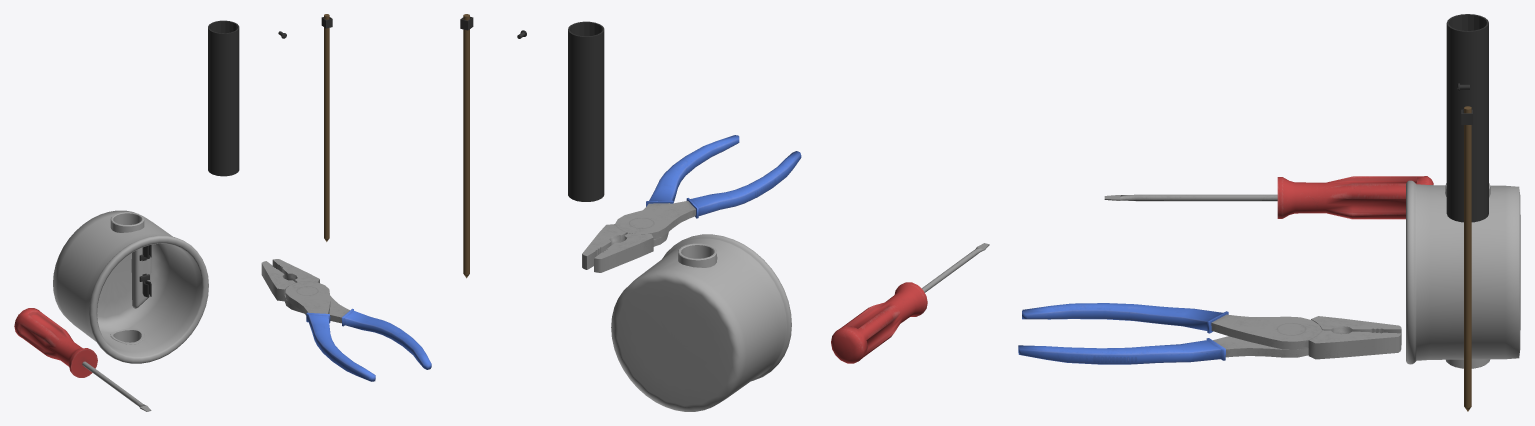
Rendered from OBJS_MEDIDOR.fbx.
The picture shows the model from 3 angles, left to right: view 1: azimuth 30°, elevation 25°; view 2: azimuth 150°, elevation 25°; view 3: azimuth 270°, elevation 25°; orthographic projection. The views are drawn at different scales.
Parts seen in each view (by area): view 1: GEO_MedidorINT, GEO_Tubo, GEO_Pinzas, GEO_Destornillador, GEO_Pinzas1, GEO_BarillaTierra, GEO_Medidor_PartesINT; view 2: GEO_MedidorINT, GEO_Tubo, GEO_Pinzas, GEO_Destornillador, GEO_Pinzas1, GEO_BarillaTierra; view 3: GEO_MedidorINT, GEO_Pinzas, GEO_Tubo, GEO_Destornillador, GEO_Pinzas1, GEO_BarillaTierra.
Boxes of the visible parts, <box> form: GEO_MedidorINT: <box>53,210,208,363</box>; GEO_Tubo: <box>208,20,239,176</box>; GEO_Pinzas: <box>272,259,375,381</box>; GEO_Destornillador: <box>14,308,151,411</box>; GEO_Pinzas1: <box>261,261,431,369</box>; GEO_BarillaTierra: <box>321,14,332,241</box>; GEO_Medidor_PartesINT: <box>139,245,151,297</box>; GEO_MedidorINT: <box>611,234,791,411</box>; GEO_Tubo: <box>568,21,604,201</box>; GEO_Pinzas: <box>582,151,801,269</box>; GEO_Destornillador: <box>831,243,989,363</box>; GEO_Pinzas1: <box>594,135,739,272</box>; GEO_BarillaTierra: <box>460,14,473,278</box>; GEO_MedidorINT: <box>1406,180,1520,368</box>; GEO_Pinzas: <box>1022,303,1401,359</box>; GEO_Tubo: <box>1446,14,1488,222</box>; GEO_Destornillador: <box>1104,176,1433,219</box>; GEO_Pinzas1: <box>1018,316,1401,364</box>; GEO_BarillaTierra: <box>1461,106,1472,411</box>.
Bounding box in the file's own units: 5.8 × 5 × 5.69.
4 materials, 1 textured.
